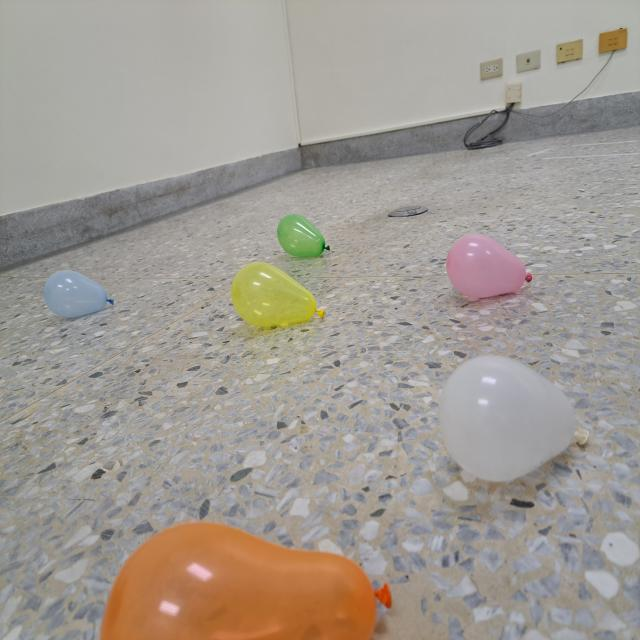other: (99, 521, 392, 640), (440, 355, 591, 484), (231, 261, 325, 330), (445, 232, 532, 302), (42, 268, 116, 318), (276, 212, 333, 261)
